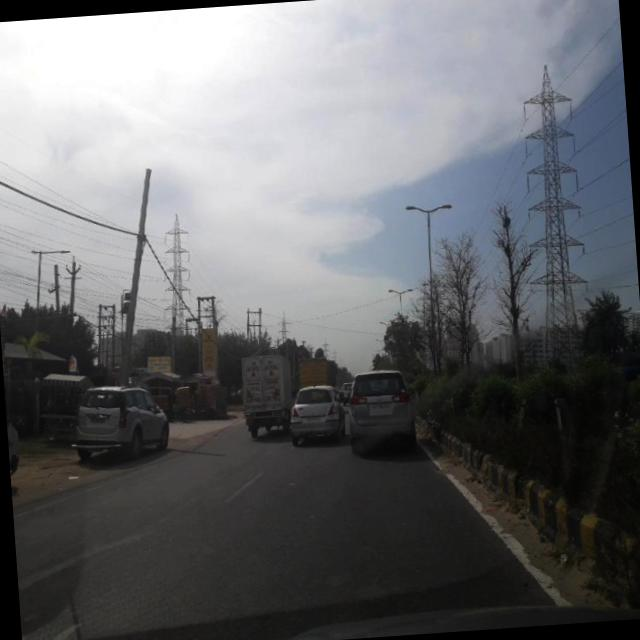crack: (21, 448, 482, 640)
